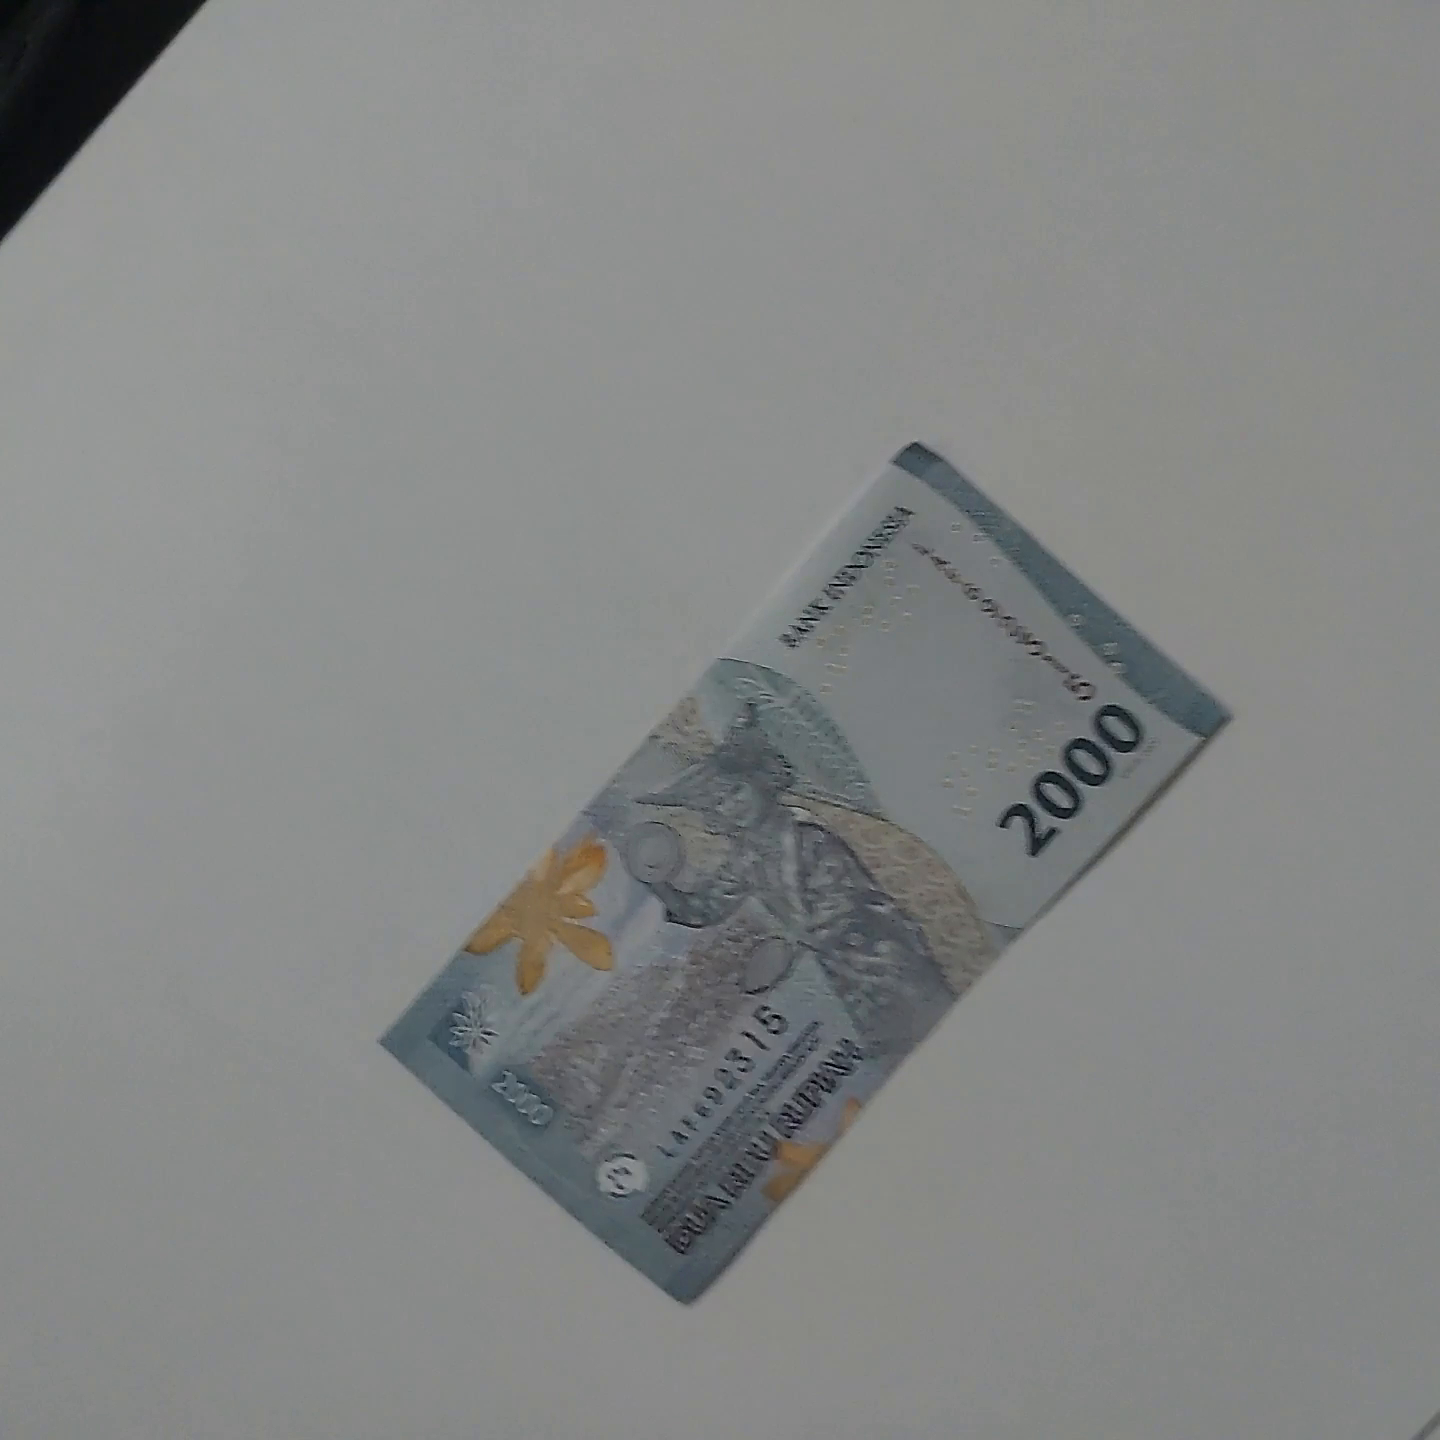2k: (332, 1040, 1191, 1440)
